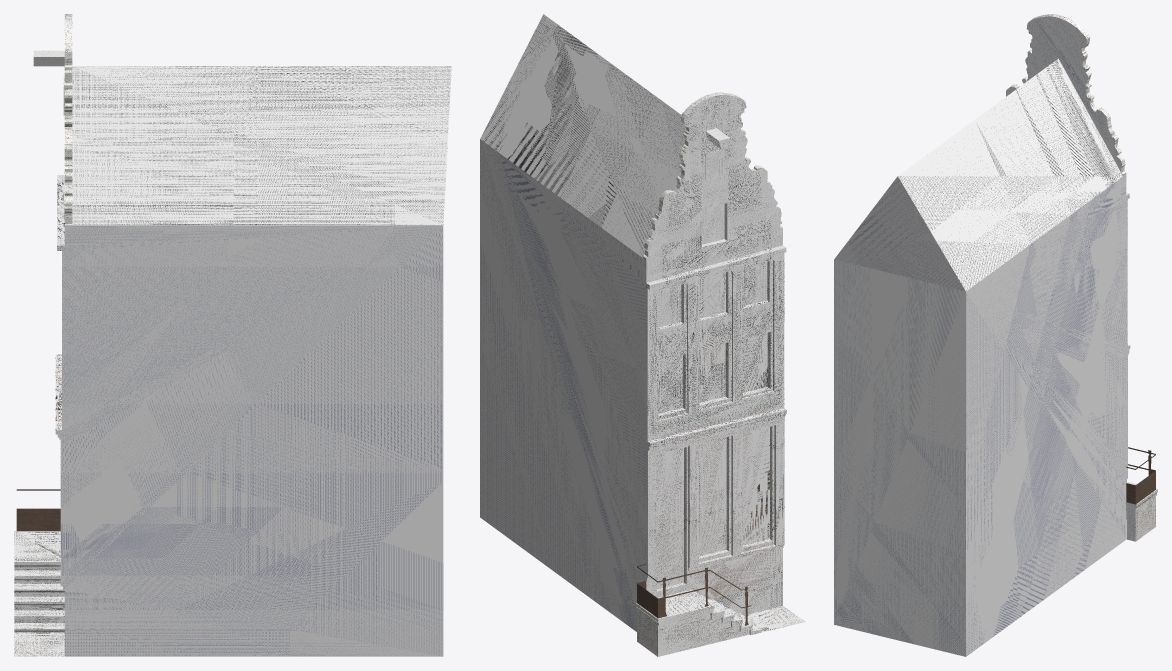
File: House9.fbx
The picture shows the model from 3 angles, left to right: view 1: azimuth 30°, elevation 25°; view 2: azimuth 150°, elevation 25°; view 3: azimuth 270°, elevation 25°; orthographic projection. The views are drawn at different scales.
Parts seen in each view (by area): view 1: Model; view 2: Model; view 3: Model.
Boxes of the visible parts, x1,y1,x2,y2 form: Model: (14, 14, 451, 656); Model: (480, 14, 805, 656); Model: (834, 14, 1157, 656).
Size of the model in its own units: 12.01 by 17.2 by 9.94.
